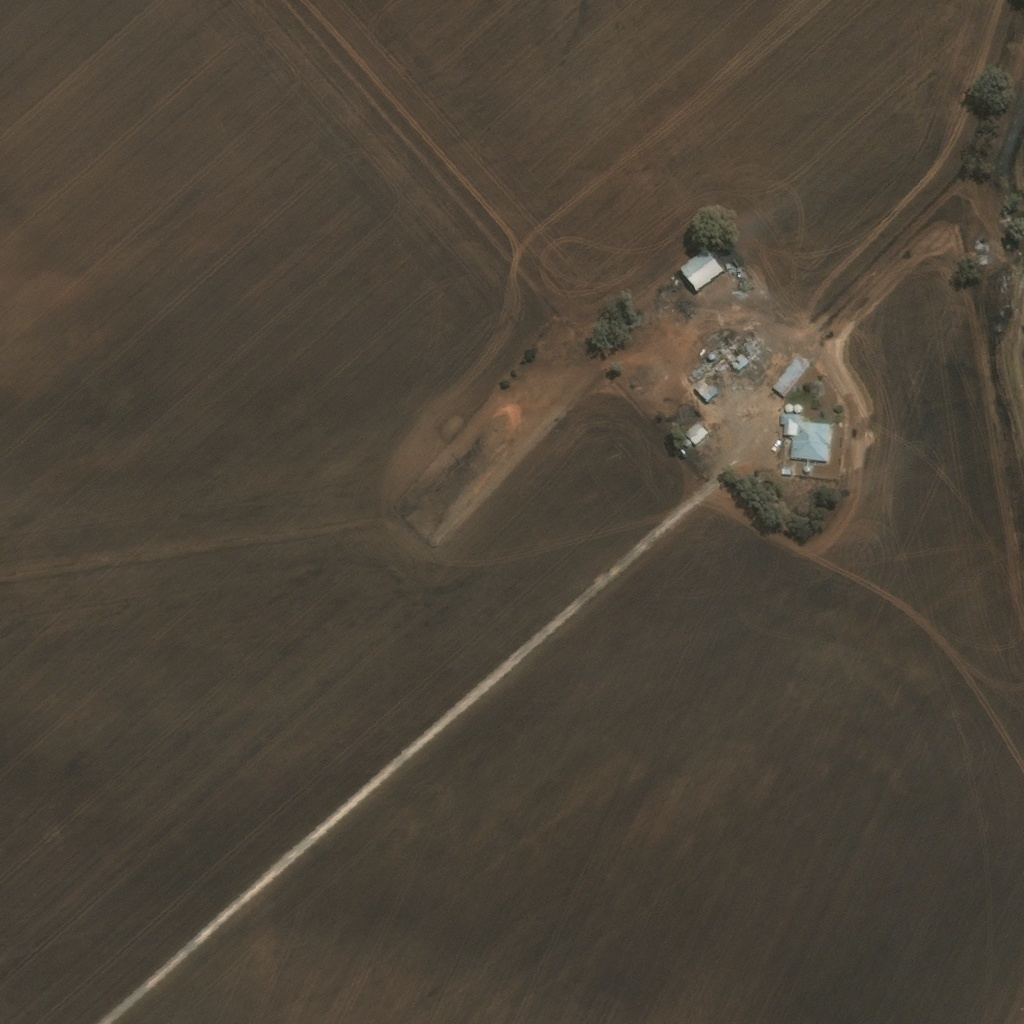0 no-damage: (781, 413, 829, 462), (681, 248, 725, 291), (773, 356, 810, 397), (693, 378, 720, 404), (683, 423, 708, 446), (681, 438, 691, 449), (793, 404, 802, 414), (785, 404, 794, 413), (803, 465, 812, 474), (782, 468, 792, 475), (724, 264, 731, 271), (708, 353, 714, 359)
2 major-damage: (728, 354, 749, 375)
4 un-classified: (761, 448, 769, 453)
